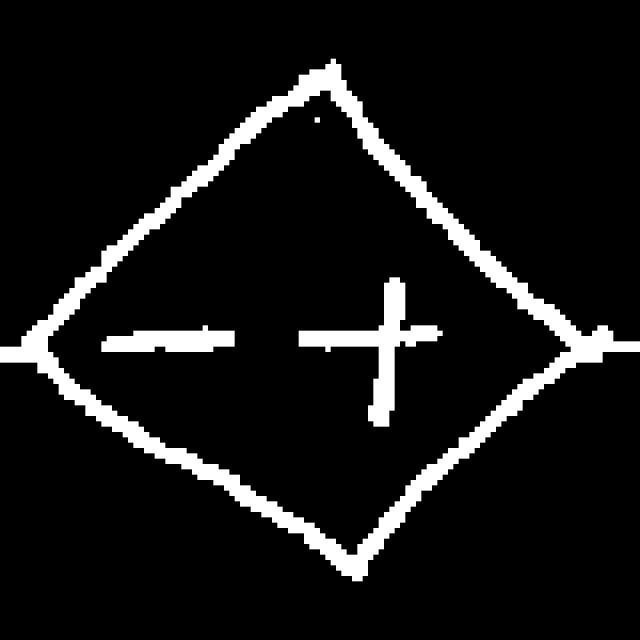dependant_voltage: (26, 52, 604, 603)
